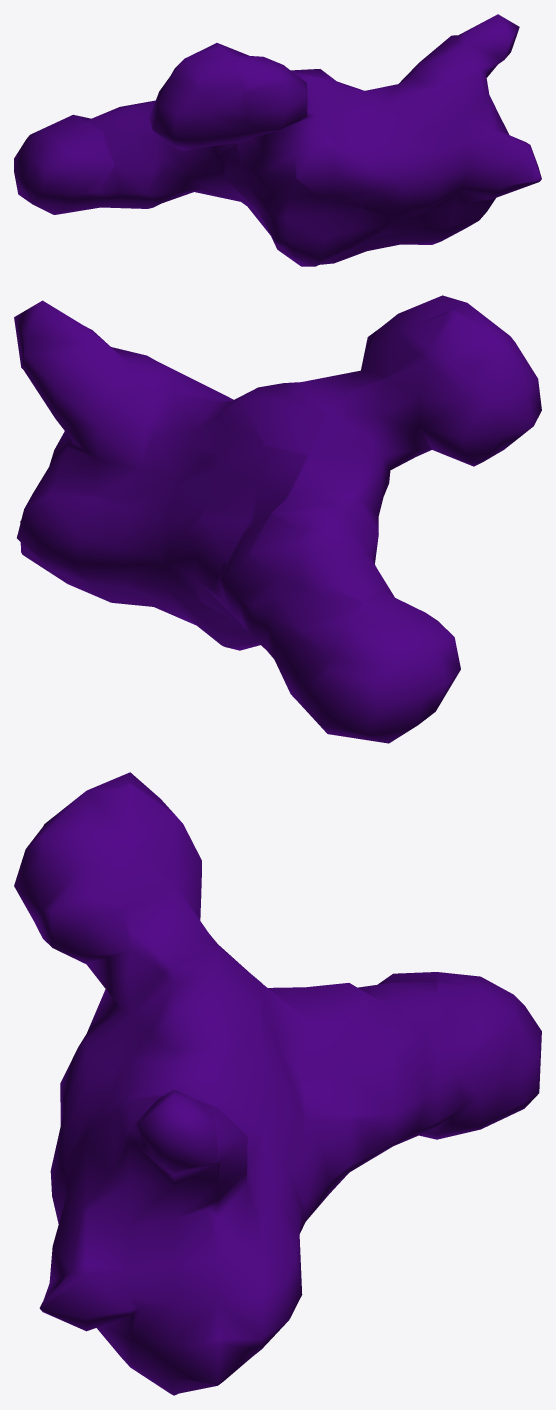
Rendered from Vesicle_264A1monomerAligned.fbx.
3 renders of one model, top to bottom at view 1: azimuth 30°, elevation 25°; view 2: azimuth 150°, elevation 25°; view 3: azimuth 270°, elevation 25°, orthographic. The views are drawn at different scales.
Parts seen in each view (by area): view 1: vesicle_MeshVes264Mesh; view 2: vesicle_MeshVes264Mesh; view 3: vesicle_MeshVes264Mesh.
Boxes of the visible parts, x1,y1,x2,y2 form: vesicle_MeshVes264Mesh: [14, 14, 541, 266]; vesicle_MeshVes264Mesh: [14, 295, 541, 743]; vesicle_MeshVes264Mesh: [14, 772, 541, 1395].
Bounding box in the file's own units: 98.52 × 61.47 × 69.27.
